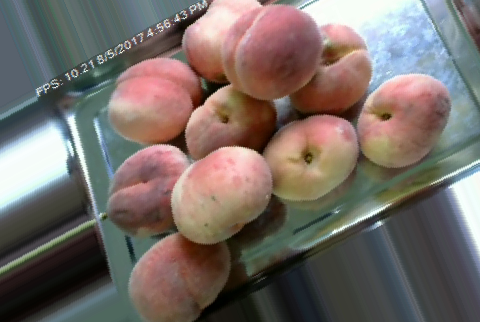Peach: (173, 146, 272, 244), (219, 3, 322, 96), (357, 73, 451, 169), (129, 232, 229, 321), (262, 115, 360, 203), (108, 57, 202, 144), (287, 20, 370, 112), (108, 146, 192, 235), (175, 0, 261, 85), (186, 82, 277, 161)
